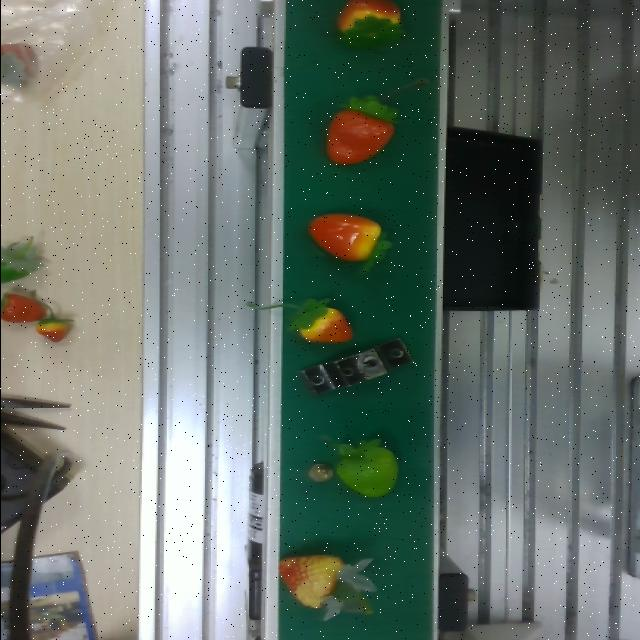Moldy Strawberry: (274, 544, 380, 630)
Small Ripe Strawberry: (322, 92, 410, 170)
Small Unripe Strawberry: (325, 434, 415, 506), (304, 204, 398, 264), (276, 294, 356, 349), (335, 0, 406, 47)
conveyor: (266, 0, 456, 640)
